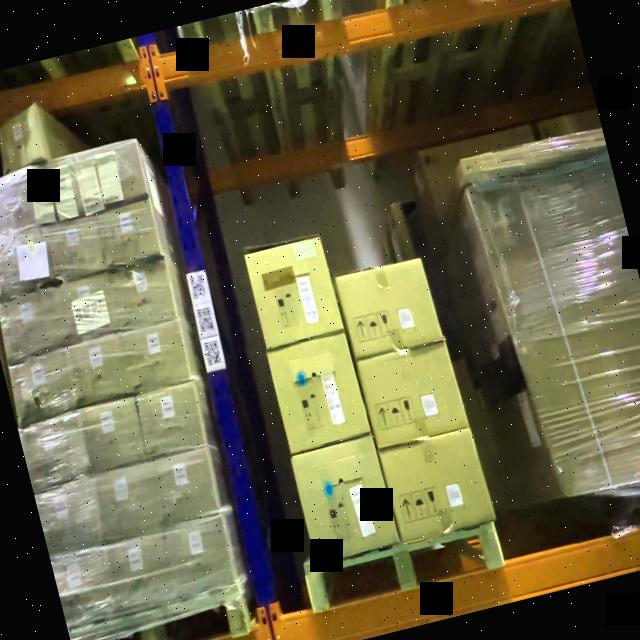box: (291, 436, 398, 560), (382, 428, 495, 540), (267, 333, 370, 452), (359, 341, 468, 446), (244, 236, 342, 348), (338, 255, 441, 357), (166, 517, 238, 595), (138, 382, 210, 458), (150, 450, 220, 524), (106, 536, 174, 612), (92, 465, 160, 541), (51, 550, 116, 628), (19, 416, 89, 488), (78, 398, 146, 471), (75, 142, 149, 209), (34, 482, 102, 554), (9, 352, 78, 422), (110, 259, 178, 328), (124, 320, 190, 390), (66, 336, 132, 406), (0, 288, 65, 357), (97, 201, 163, 268), (54, 274, 119, 342), (45, 217, 107, 280), (0, 229, 57, 295), (34, 158, 88, 222), (0, 174, 50, 236), (0, 108, 49, 169)
